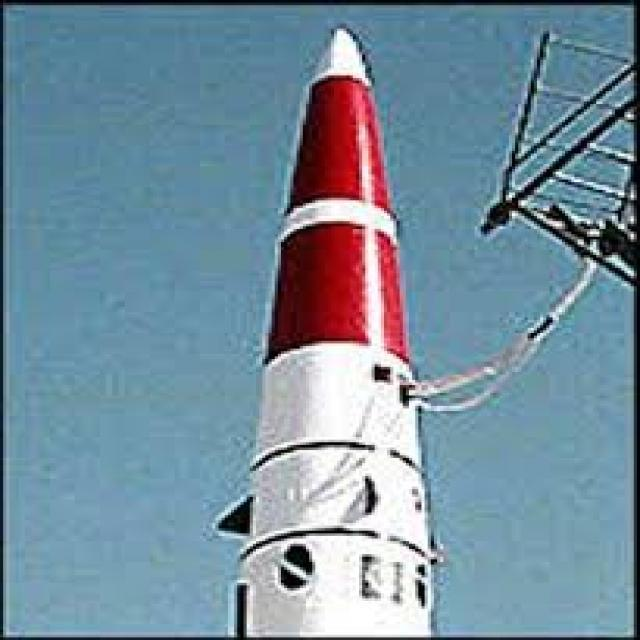Missile: (242, 15, 445, 640)
